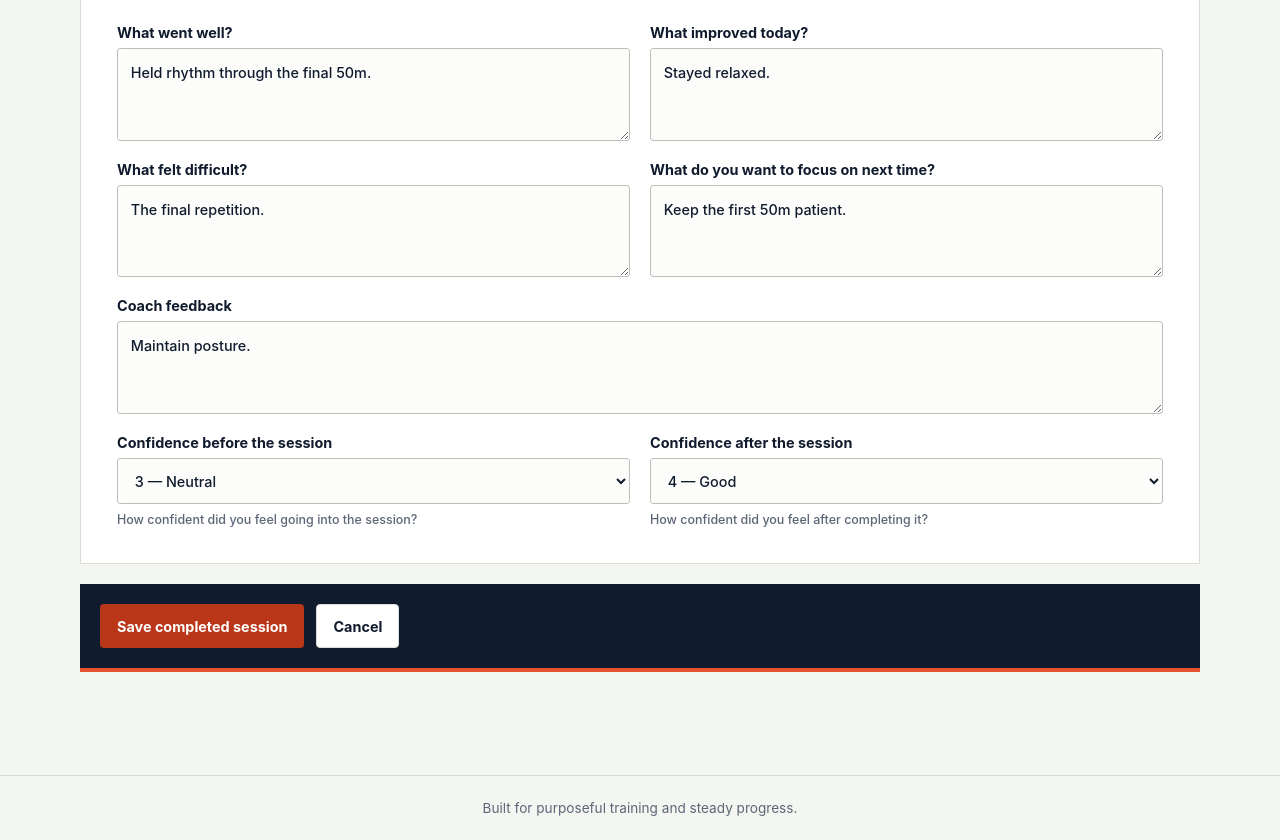
Test case: session completion and reflection › does not show an achievement that was already unlocked
The image size is (1280, 840).
(page scrolled)
Step 1. Click the button "Save completed session" → (202,626), box [100, 604, 304, 648]
(page scrolled)
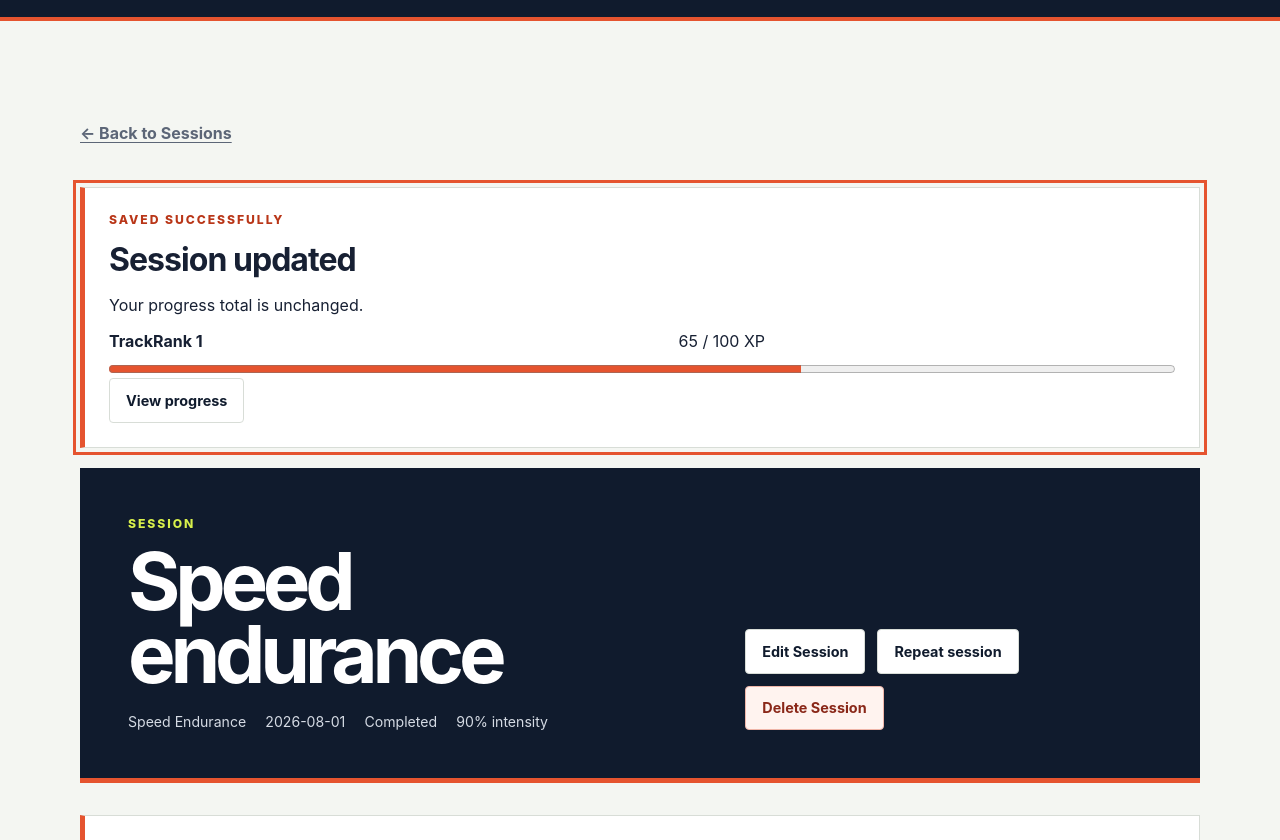
Expected: the heading "Session updated" is shown, [109, 240, 356, 279]
